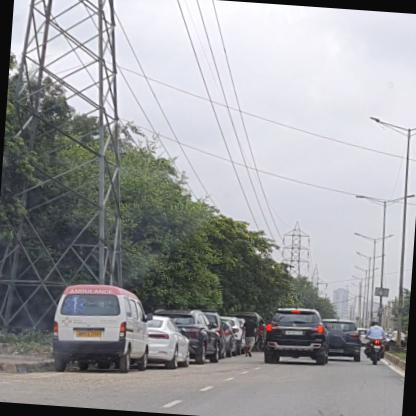car: (50, 282, 153, 378), (262, 305, 332, 368), (151, 307, 223, 366), (142, 314, 194, 371), (319, 319, 365, 363)
motorcycle: (364, 319, 388, 365)
